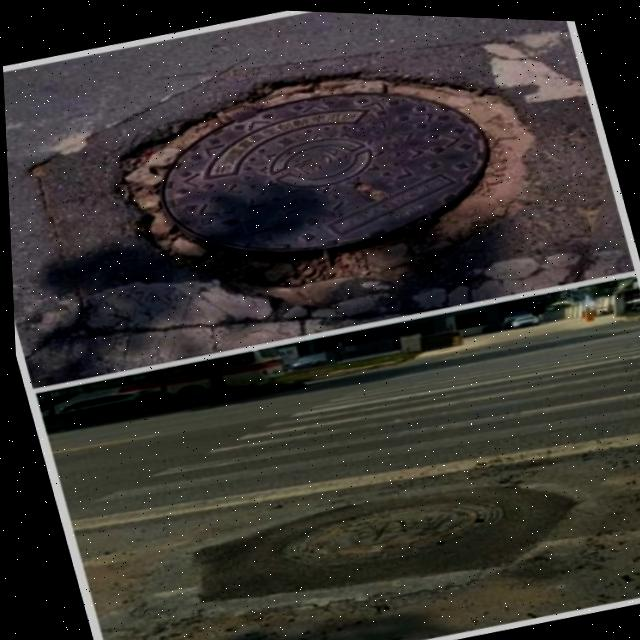manhole: (97, 10, 559, 326)
